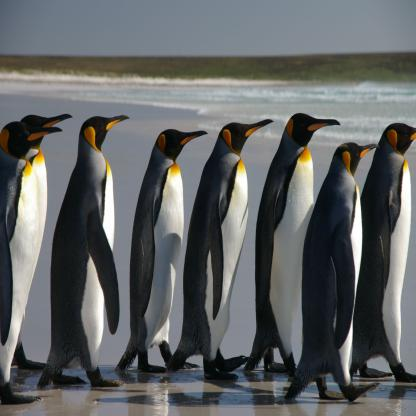Penguin: (101, 112, 218, 394), (39, 109, 146, 402), (172, 106, 277, 386), (242, 101, 342, 379), (288, 134, 387, 401), (1, 97, 84, 396), (0, 112, 64, 413), (348, 116, 415, 392)
